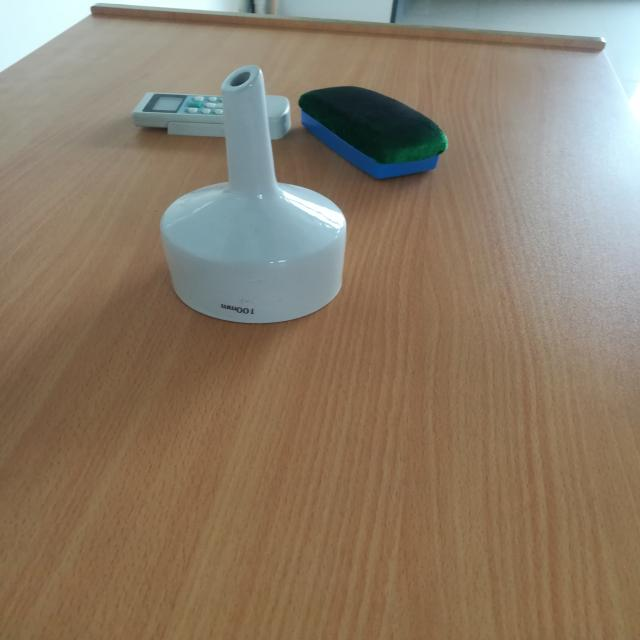Buchner_Funnel: (114, 34, 396, 380)
